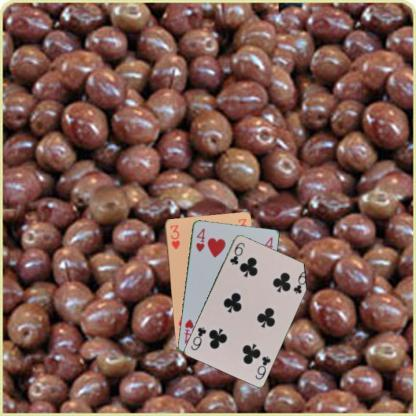3h: (167, 221, 181, 250)
4h: (192, 225, 206, 252)
6c: (252, 353, 272, 381), (226, 240, 247, 266)
